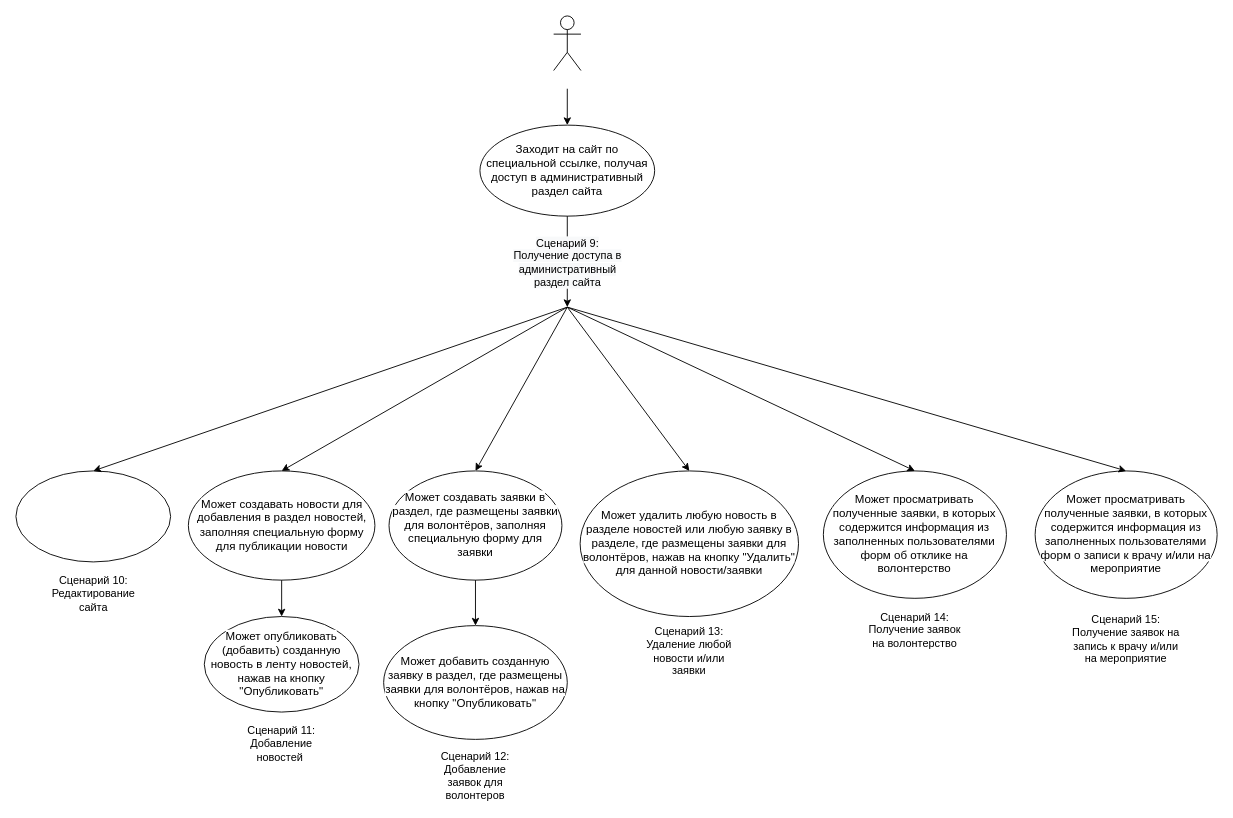
Image size: 1233x818. Some labels were removed from this diagram. Here are the shapes that lost their labels. From the top down, the box of each, then its label:
(553, 15, 581, 71): Администратор
(15, 470, 171, 562): Может редактировать (изменять) любую информацию, размещённую на сайте
